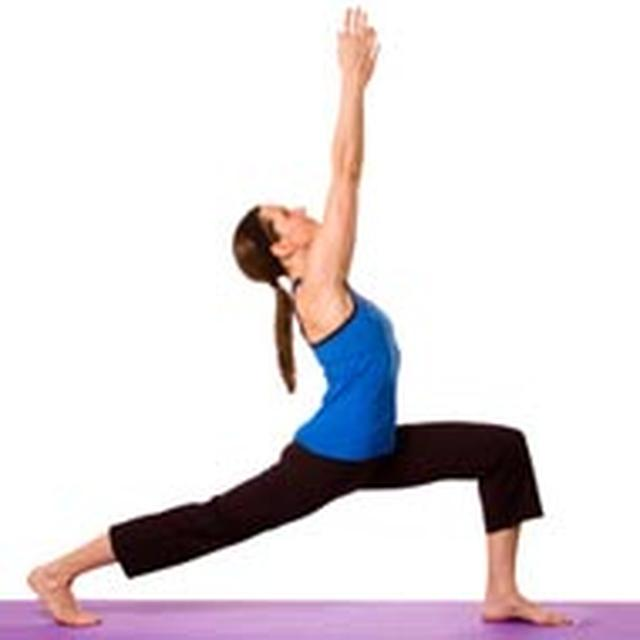Warrior_I: (21, 2, 587, 629)
